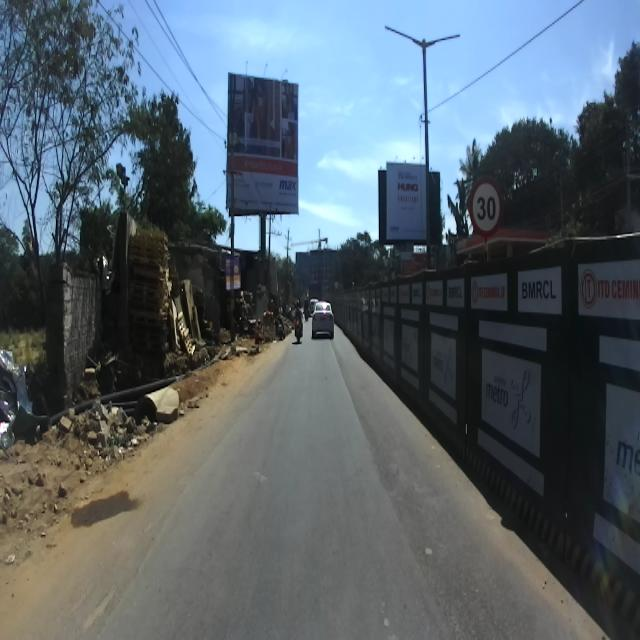sign board ahead at: (462, 172, 511, 262)
